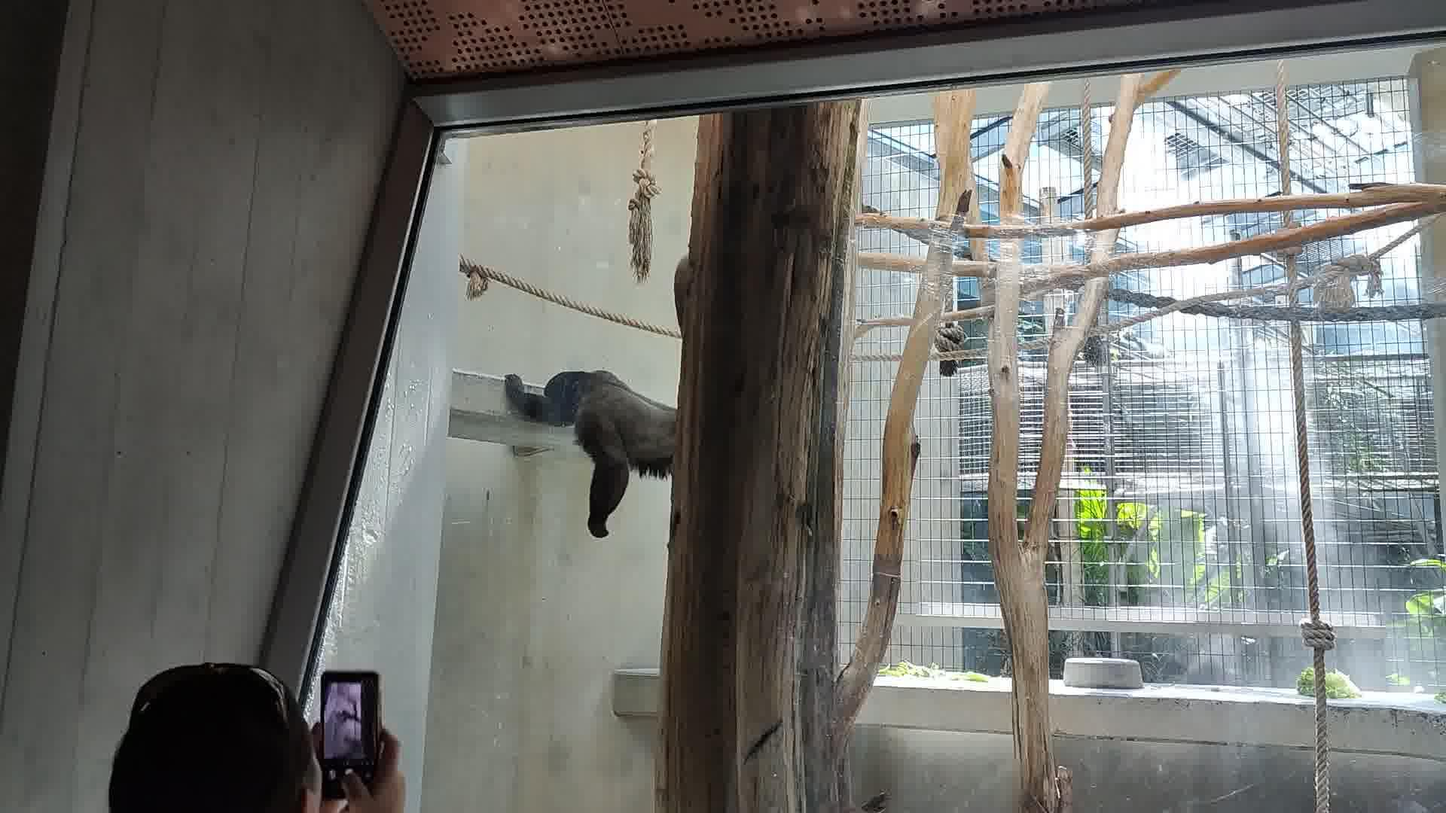boar: (504, 369, 677, 538)
